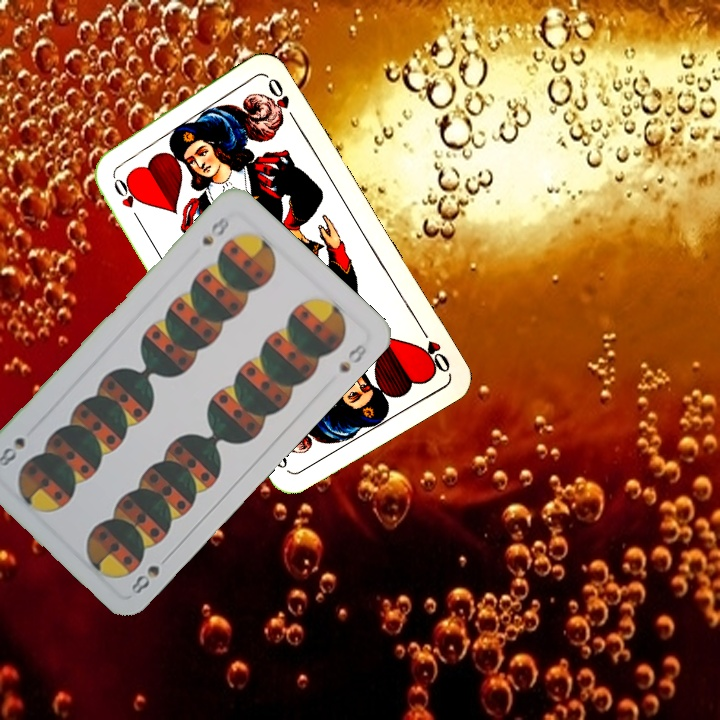HO: (107, 167, 145, 222), (415, 322, 453, 376)
S8: (126, 549, 174, 597), (197, 212, 232, 248)
